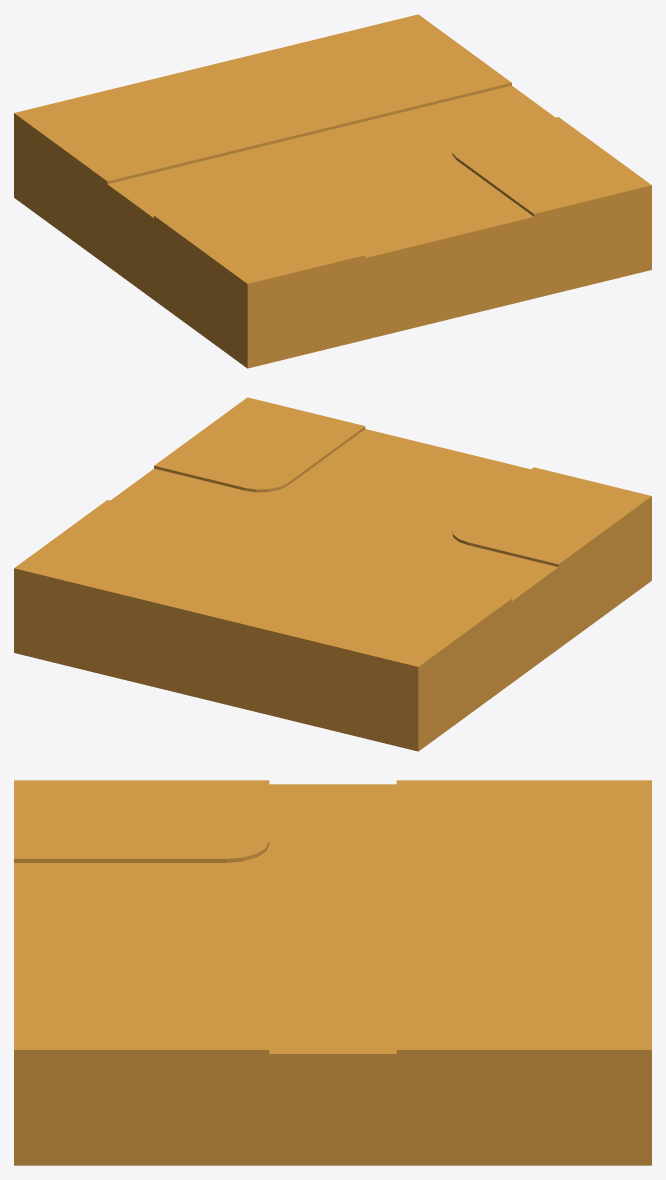
The model's file is tile-mainroad-road-intersection-t.glb.
3 views of the same model, one above another, from view 1: azimuth 30°, elevation 25°; view 2: azimuth 150°, elevation 25°; view 3: azimuth 270°, elevation 25° (orthographic). The views are drawn at different scales.
Visible parts, largest first — view 1: tile-mainroad-road-intersection-t; view 2: tile-mainroad-road-intersection-t; view 3: tile-mainroad-road-intersection-t.
Part boxes in pixels (left/top/right/bottom): tile-mainroad-road-intersection-t: left=14, top=14, right=651, bottom=368; tile-mainroad-road-intersection-t: left=14, top=397, right=651, bottom=751; tile-mainroad-road-intersection-t: left=14, top=780, right=651, bottom=1165.
Bounding box in the file's own units: 30 × 6 × 30.
